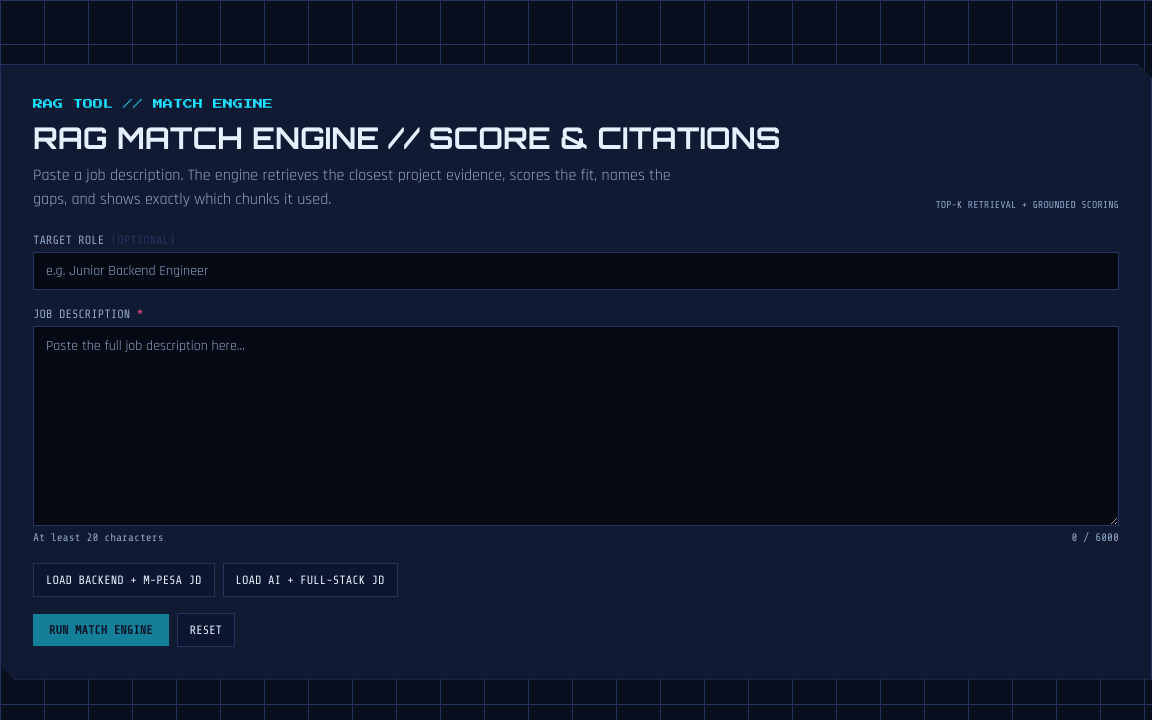
Test case: Match.vue › reset › clears the form
Step 1. Type "Some job description here" into the text box labelled "JOB DESCRIPTION * At least 20 characters 0 / 6000" → (576,426), box x1=33 y1=326 x2=1119 y2=526
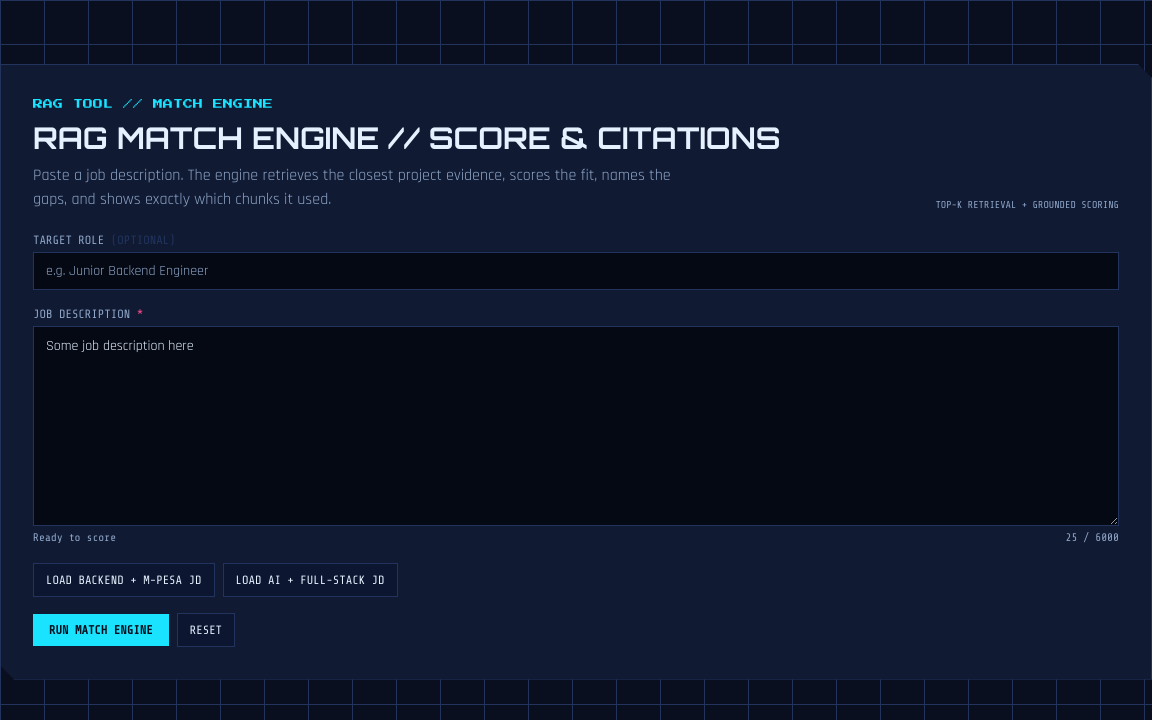
Step 2. Type "Test Role" into the field labelled "TARGET ROLE (OPTIONAL)" → (576,271), box x1=33 y1=252 x2=1119 y2=290
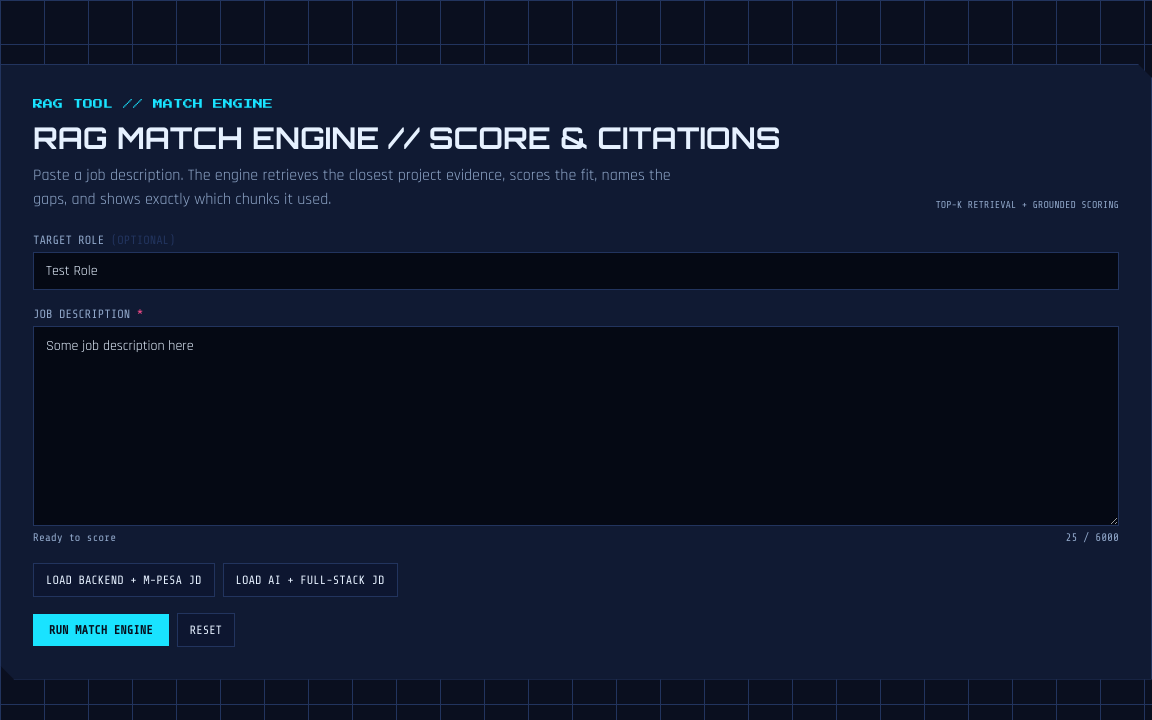
Step 3. Click the button "RESET" → (206,630), box x1=177 y1=612 x2=235 y2=646
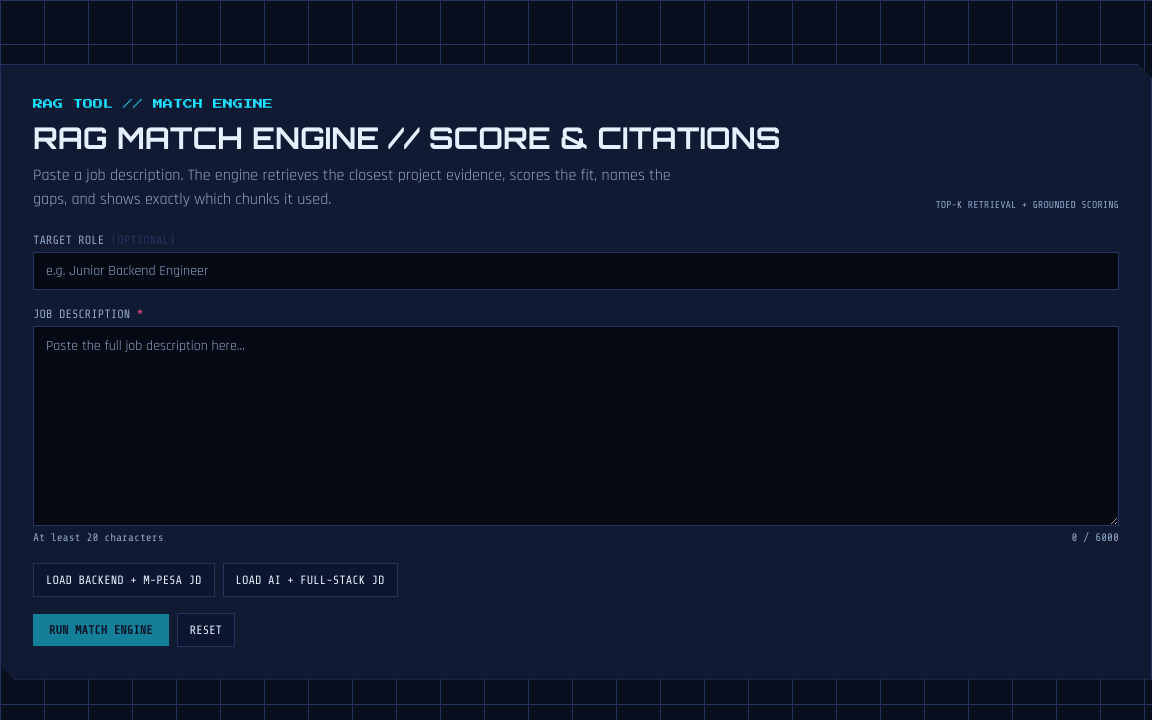
Check: the text box labelled "JOB DESCRIPTION * At least 20 characters 0 / 6000" is empty, box x1=33 y1=326 x2=1119 y2=526
Check: the field labelled "TARGET ROLE (OPTIONAL)" is empty, box x1=33 y1=252 x2=1119 y2=290
